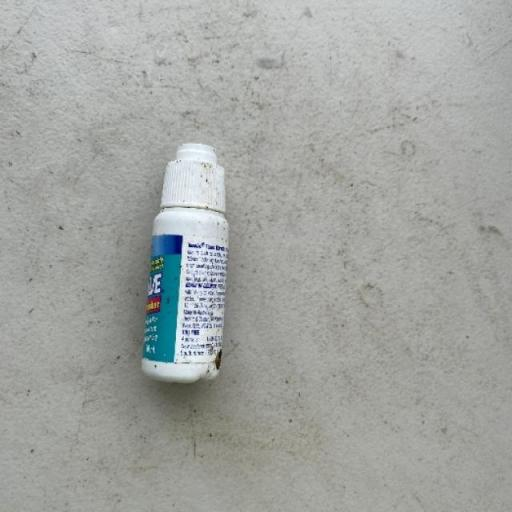plastic: (140, 142, 230, 383)
